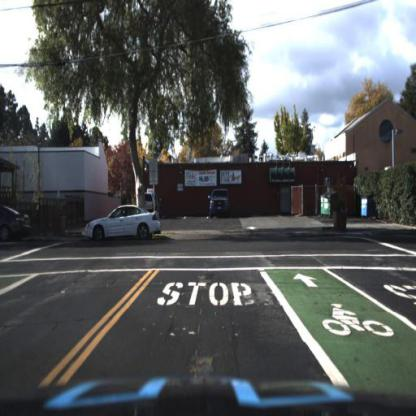car: (86, 196, 162, 251), (1, 201, 36, 248), (209, 188, 234, 218), (130, 190, 158, 213)
